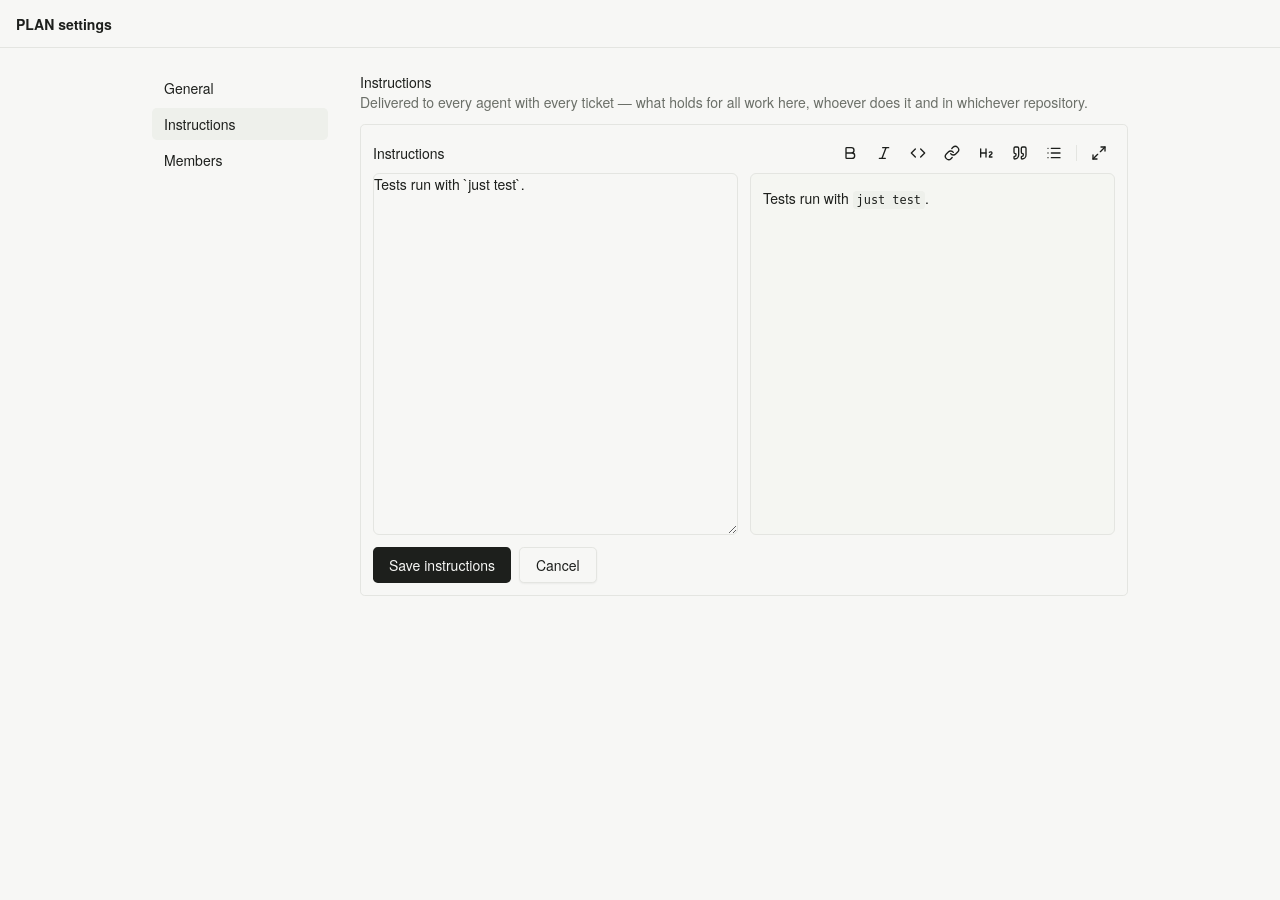
Test case: writes the text every agent is handed with every ticket
This screenshot has width=1280, height=900.
Replace the text in the text box named "Instructions" with "No dependency lands without asking." at coordinates (556, 354), box [374,174,737,534]
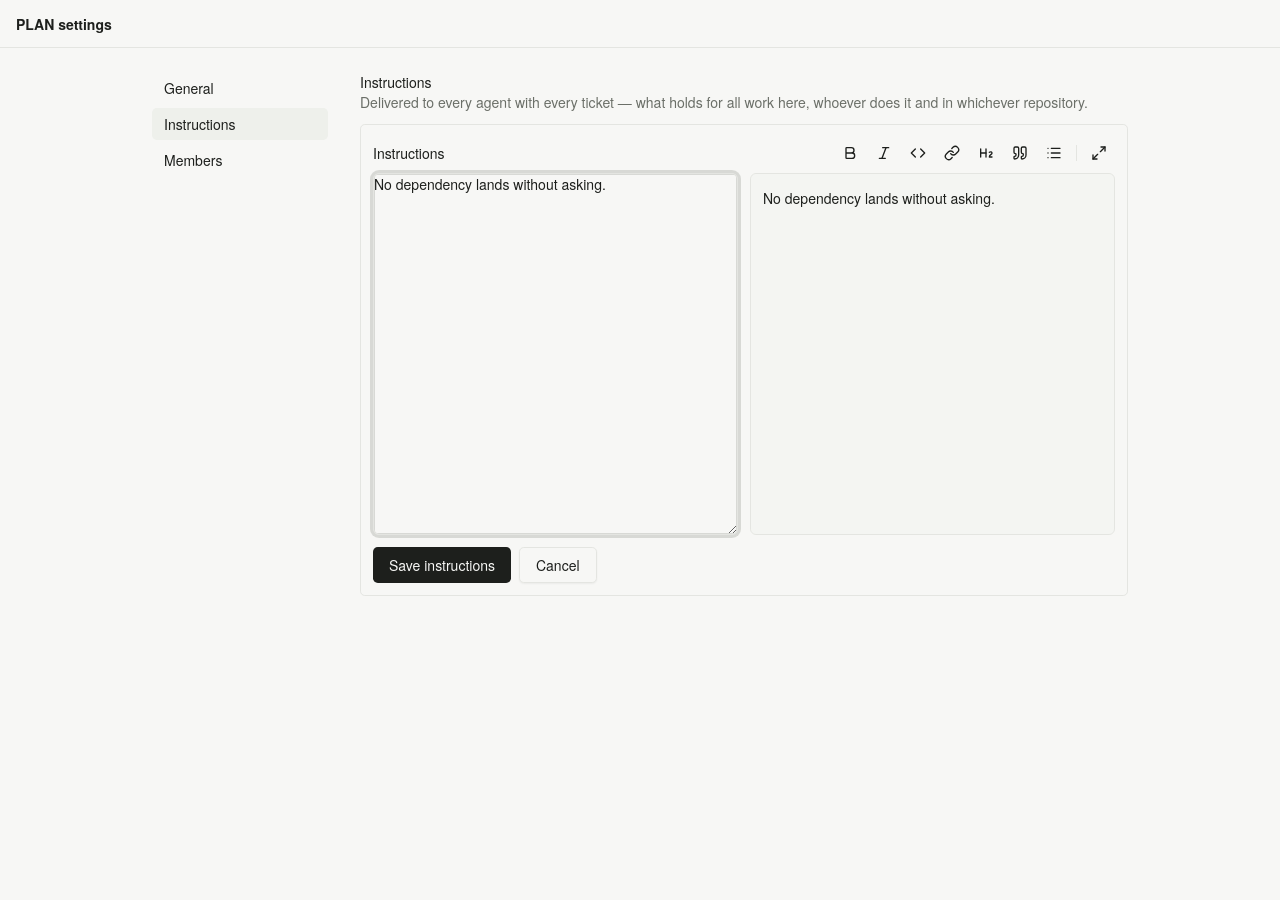
Click the button "Save instructions" at coordinates (442, 565), box [373,547,511,583]
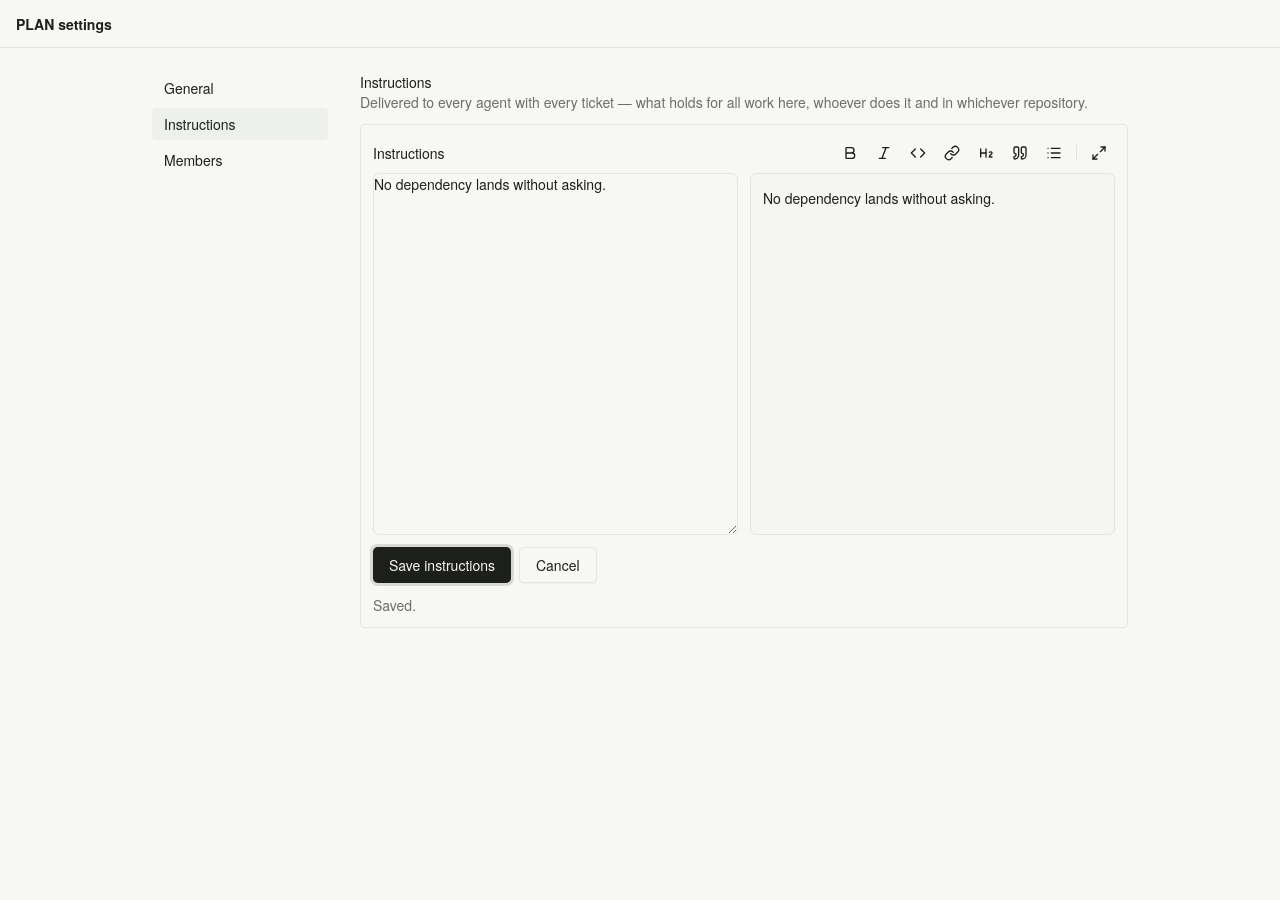
Expected: the message reads "Saved.", [373,595,416,615]
